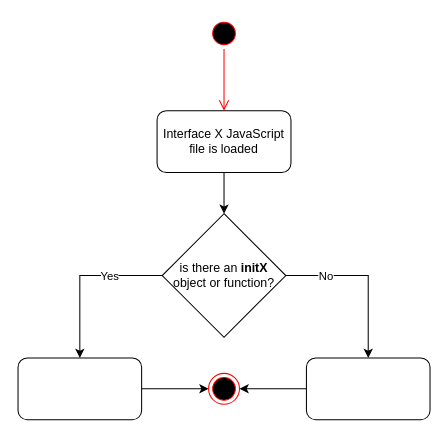
Some shapes in this 448 by 438 pixel diagram are drawn without their labels. Each missing label, with the centre of its shape:
"Auto initialise Interface X with initX options" goes at point (79, 388).
"Wait for X.init call" goes at point (367, 388).
